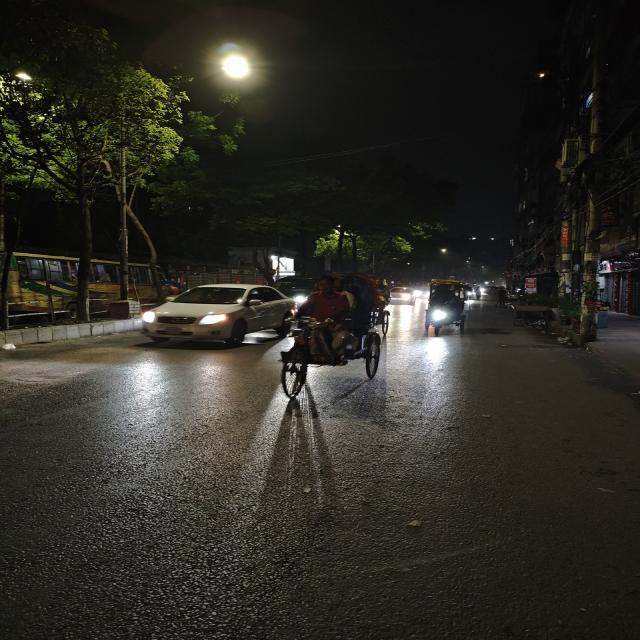car: (137, 280, 296, 352), (383, 282, 418, 308)
pedestrian: (492, 286, 512, 309)
rickshaw: (271, 269, 393, 401), (418, 279, 477, 337)
